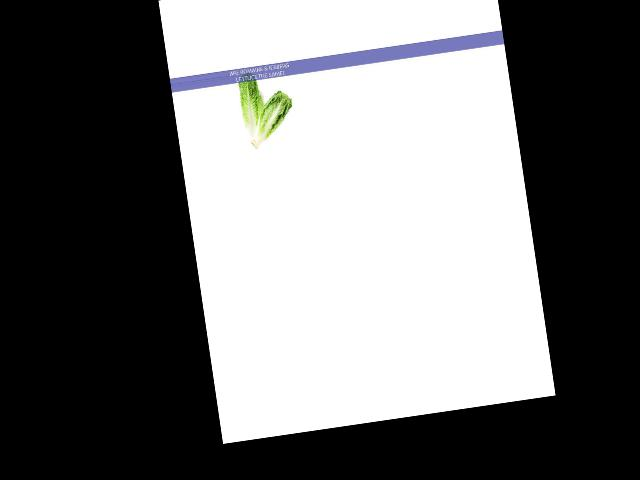lettuce: (241, 84, 296, 149)
